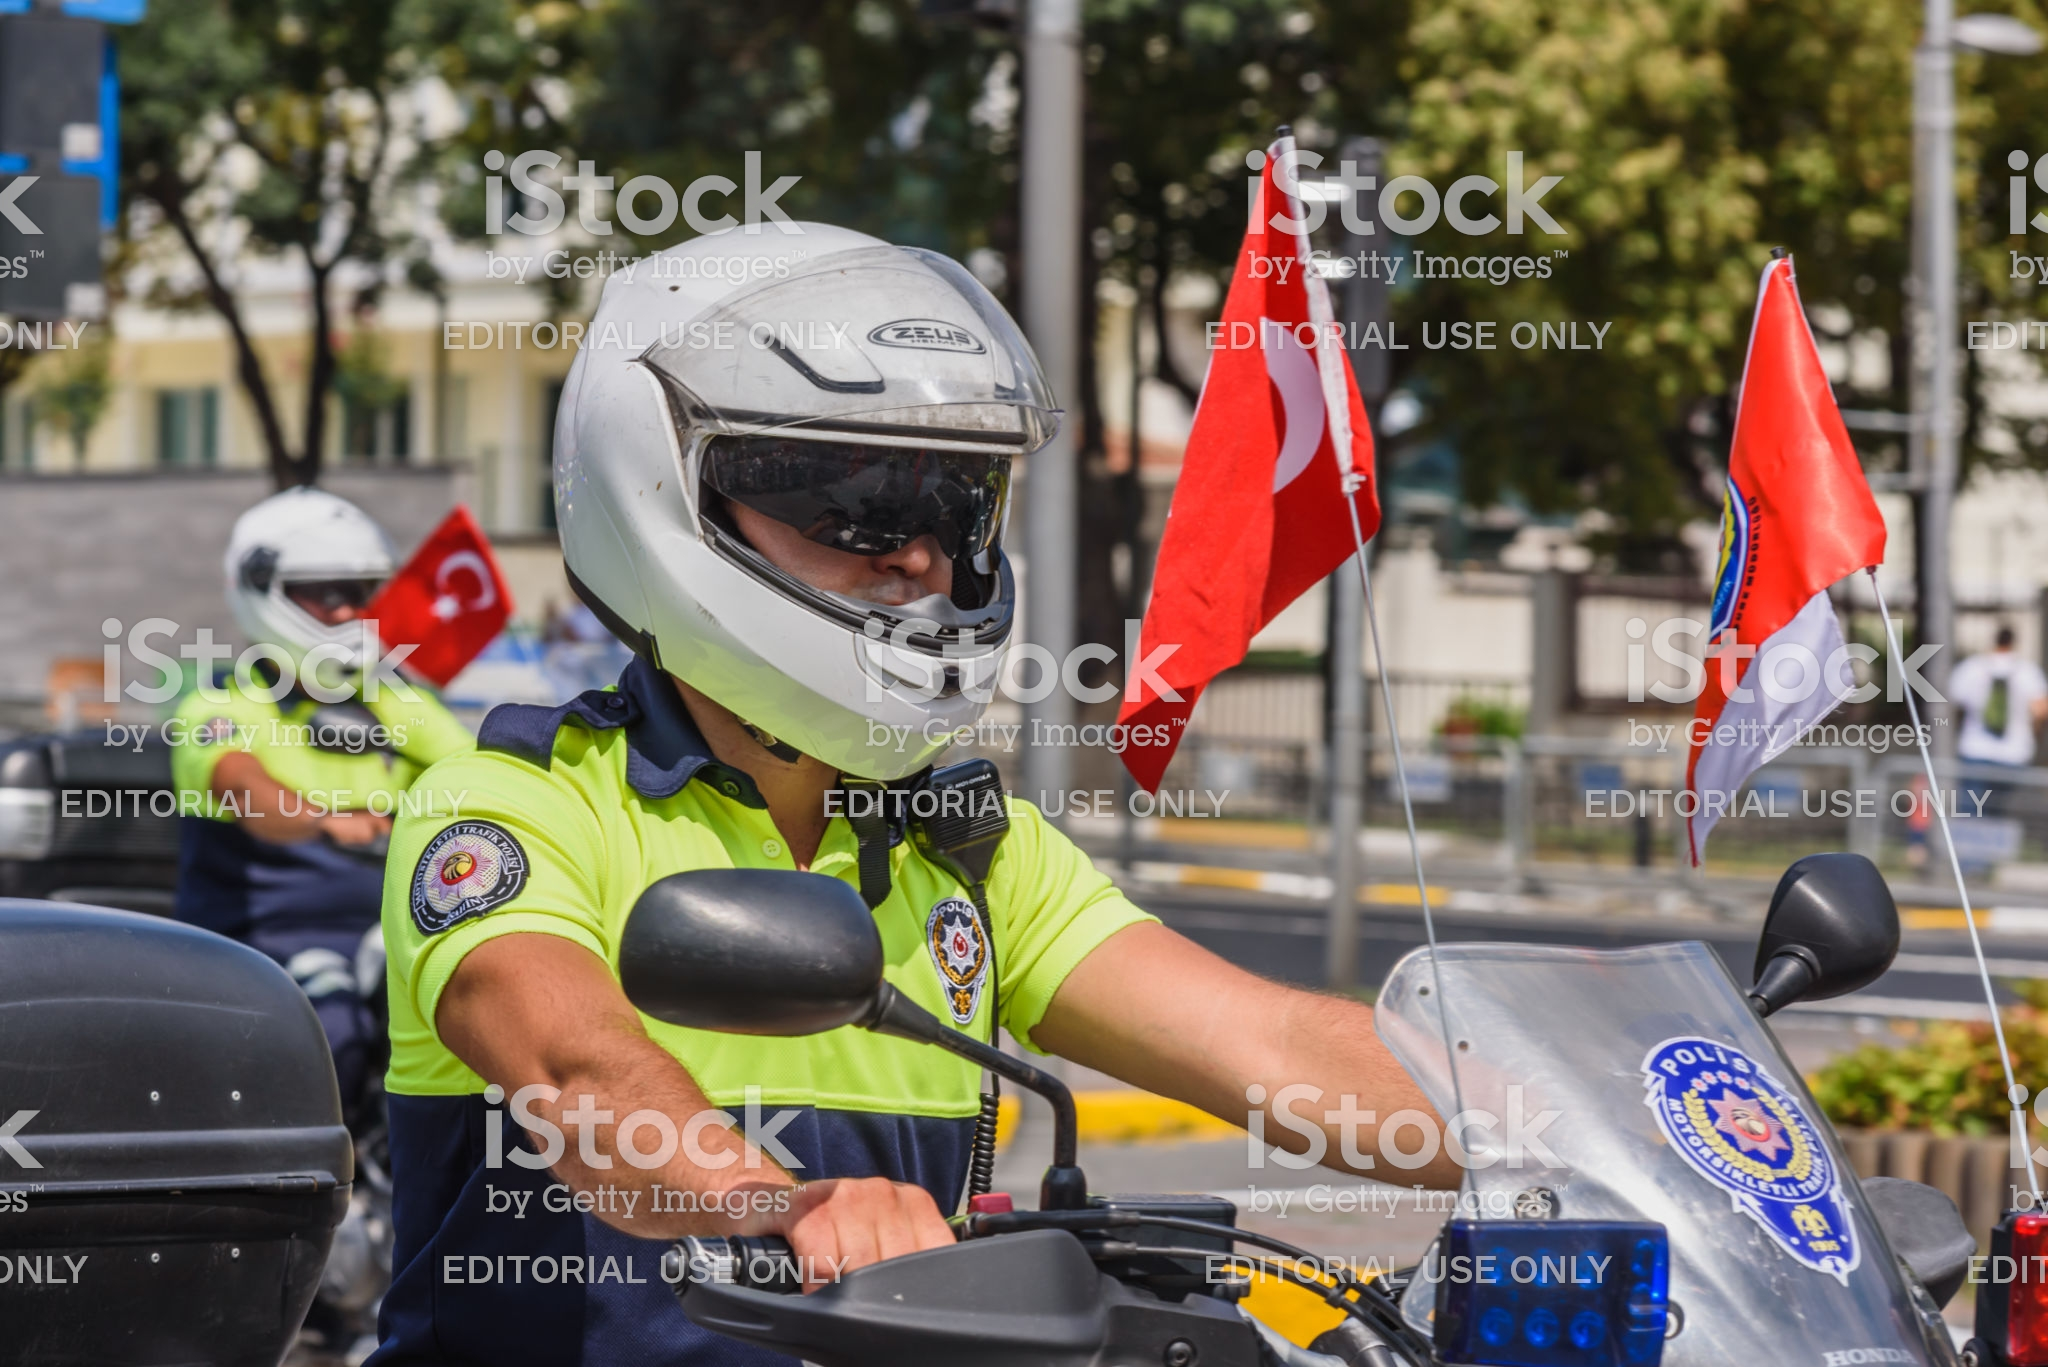helmet: (525, 223, 1034, 751), (213, 464, 409, 677)
